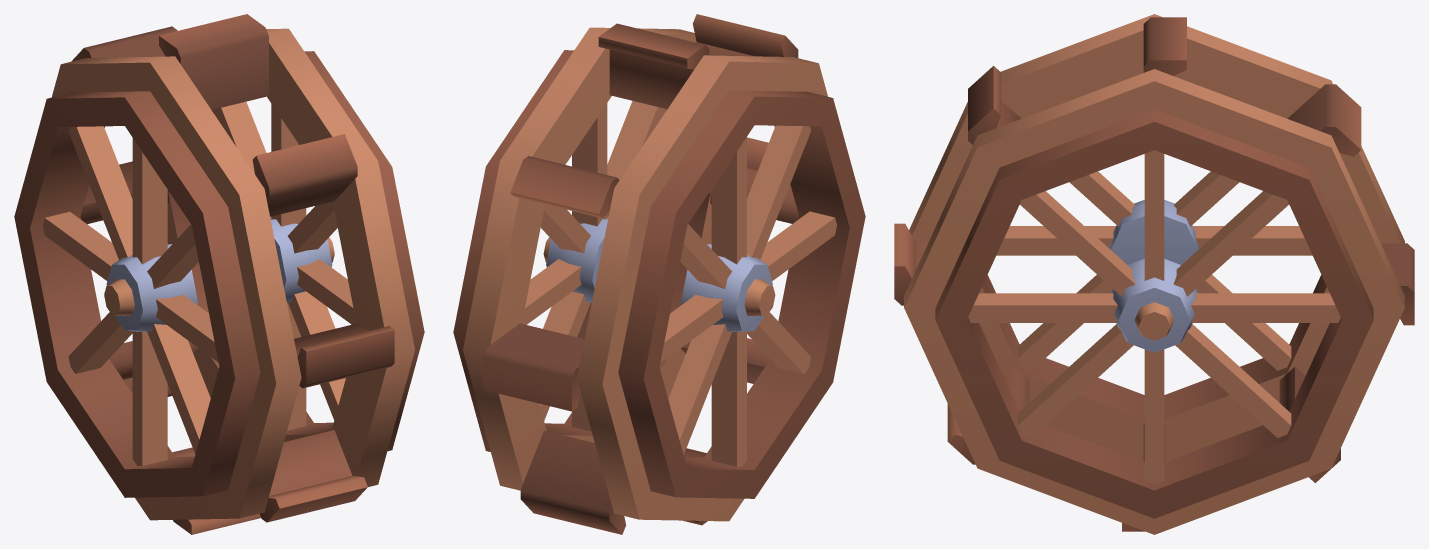
File: vattenkvarn.glb
3 views of the same model, side by side, from view 1: azimuth 30°, elevation 25°; view 2: azimuth 150°, elevation 25°; view 3: azimuth 270°, elevation 25° (orthographic).
Parts seen in each view (by area): view 1: watermill; view 2: watermill; view 3: watermill.
Boxes of the visible parts, bbox=[...] form: watermill: bbox=[14, 14, 424, 534]; watermill: bbox=[453, 14, 865, 534]; watermill: bbox=[894, 14, 1414, 534].
Size of the model in its own units: 0.85 by 1.8 by 1.8.
Materials: 1 (1 with a texture image).
